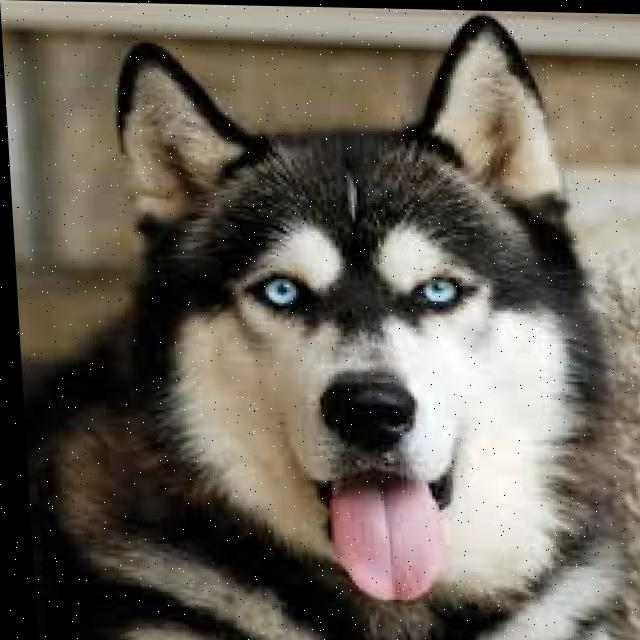ALASKAN_MALAMUTE: (0, 2, 640, 640)
